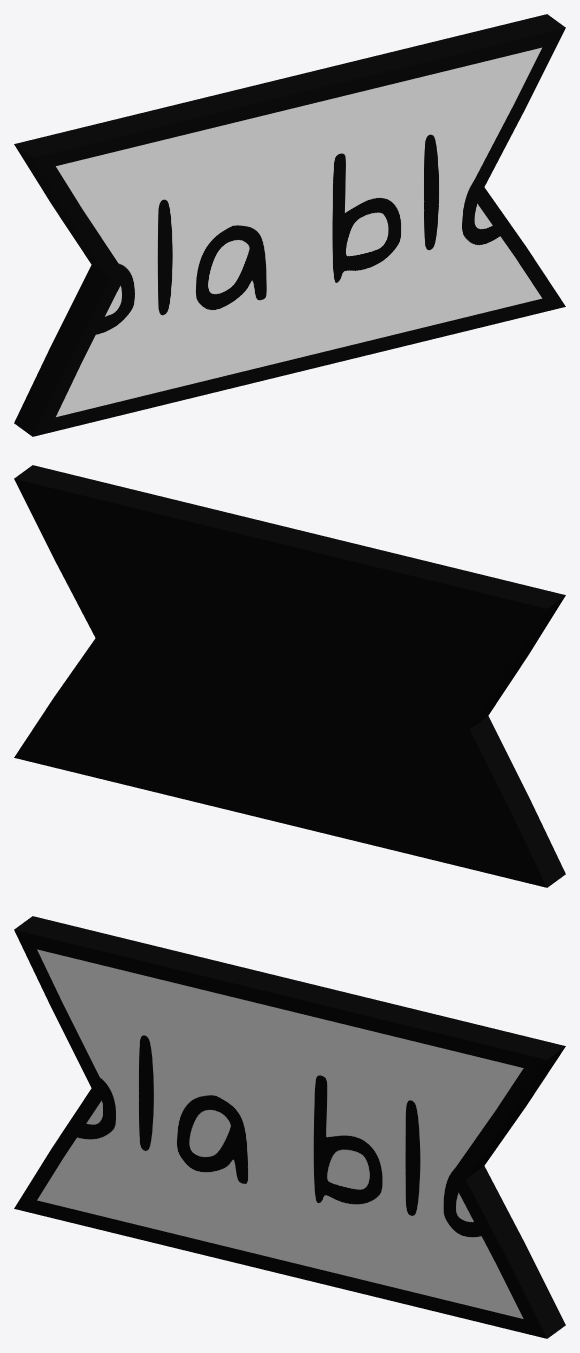
Rendered from mdl_poland_poempieces_7.gltf.
3 renders of one model, top to bottom at view 1: azimuth 30°, elevation 25°; view 2: azimuth 150°, elevation 25°; view 3: azimuth 330°, elevation 25°, orthographic.
Parts seen in each view (by area): view 1: Plane.009; view 2: Plane.009; view 3: Plane.009.
Boxes of the visible parts, x1,y1,x2,y2 form: Plane.009: [14, 14, 565, 436]; Plane.009: [14, 465, 565, 887]; Plane.009: [14, 916, 565, 1338].
Size of the model in its own units: 0.5 by 0.25 by 0.0304.
Materials: 2 (2 with a texture image).
